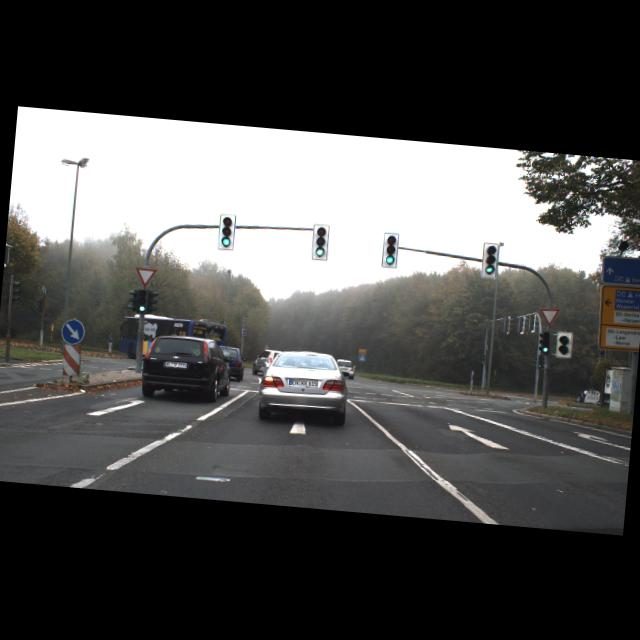mandatory: (60, 317, 84, 344)
other: (133, 266, 157, 287), (537, 306, 559, 328)
